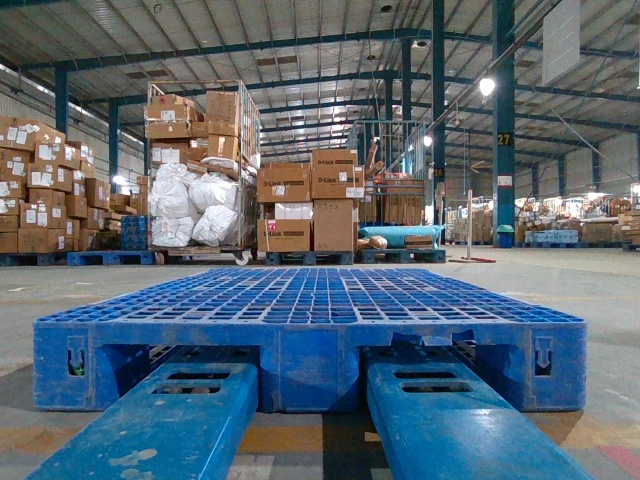block: (259, 325, 358, 411), (33, 321, 115, 408), (511, 322, 588, 412)
front: (32, 323, 588, 411)
hole pallet: (354, 346, 516, 404), (113, 346, 258, 401)
